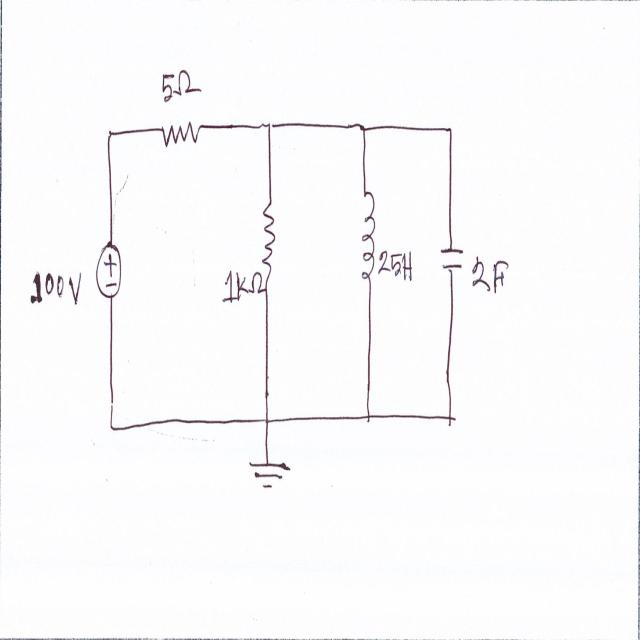capacitor: (439, 242, 468, 278)
ground: (247, 455, 292, 495)
inductor: (359, 178, 377, 293)
resistor: (259, 192, 277, 281), (158, 118, 202, 151)
voltage_source: (93, 237, 124, 302)
